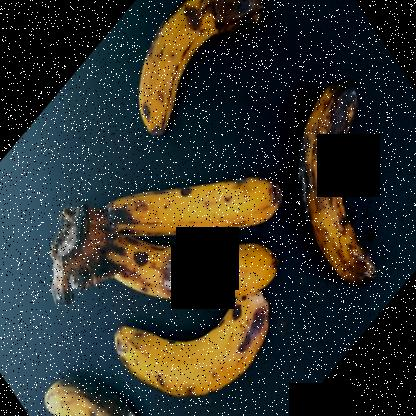ripe: (113, 293, 278, 396), (101, 150, 289, 237)
rotten: (293, 72, 402, 319), (124, 0, 281, 137), (37, 368, 152, 415)
